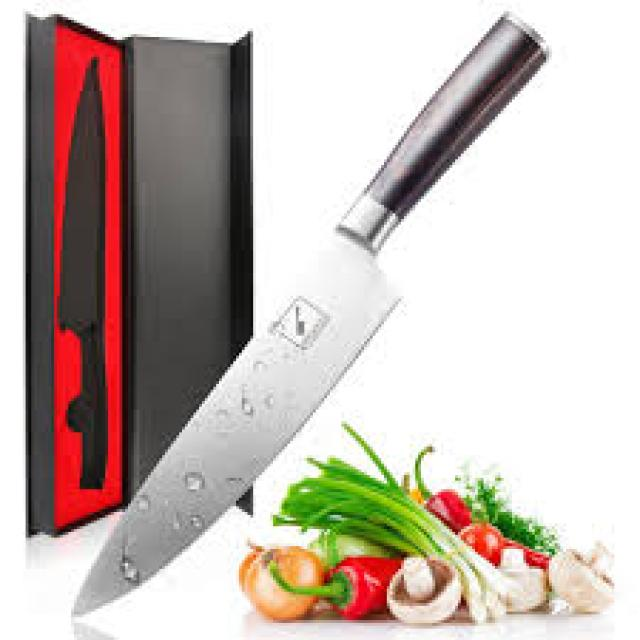knives: (66, 6, 554, 626)
